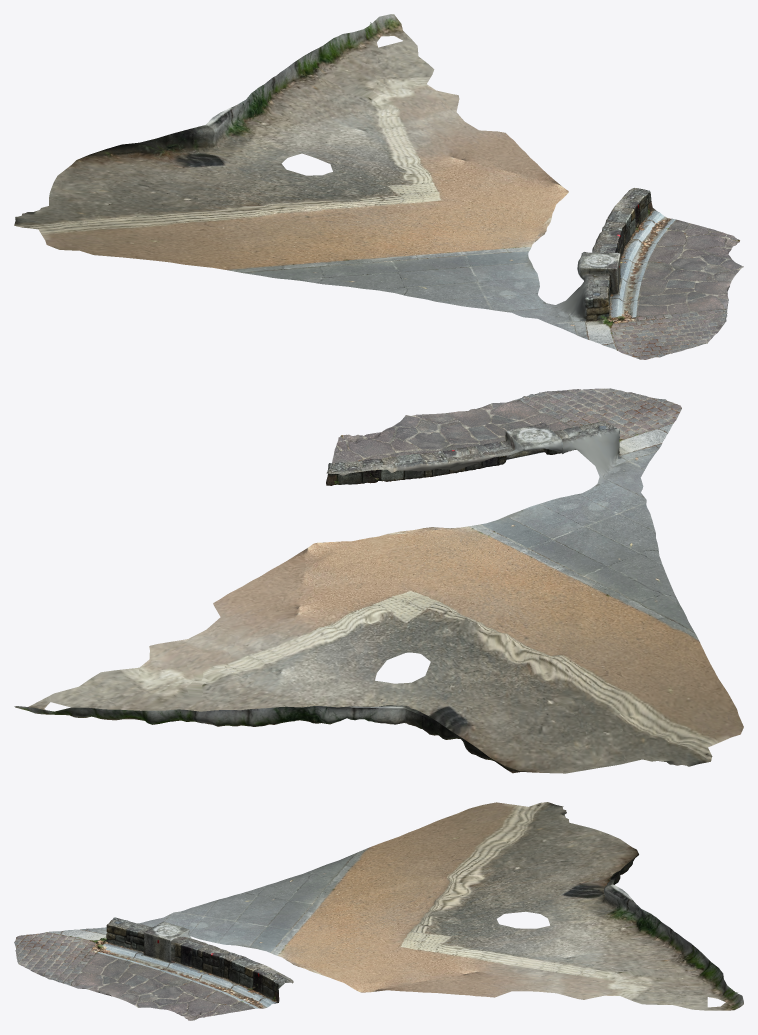
The picture shows the model from 3 angles, top to bottom: view 1: azimuth 30°, elevation 25°; view 2: azimuth 150°, elevation 25°; view 3: azimuth 270°, elevation 25°; orthographic projection. The views are drawn at different scales.
Parts seen in each view (by area): view 1: baked_mesh_0f644497; view 2: baked_mesh_0f644497; view 3: baked_mesh_0f644497.
Part boxes in pixels (x1=…): baked_mesh_0f644497: x1=14, y1=14, x2=743, y2=359; baked_mesh_0f644497: x1=14, y1=388, x2=743, y2=773; baked_mesh_0f644497: x1=14, y1=802, x2=743, y2=1020.
Bounding box in the file's own units: 2.71 × 0.1844 × 3.73.
Materials: 1 (1 with a texture image).
